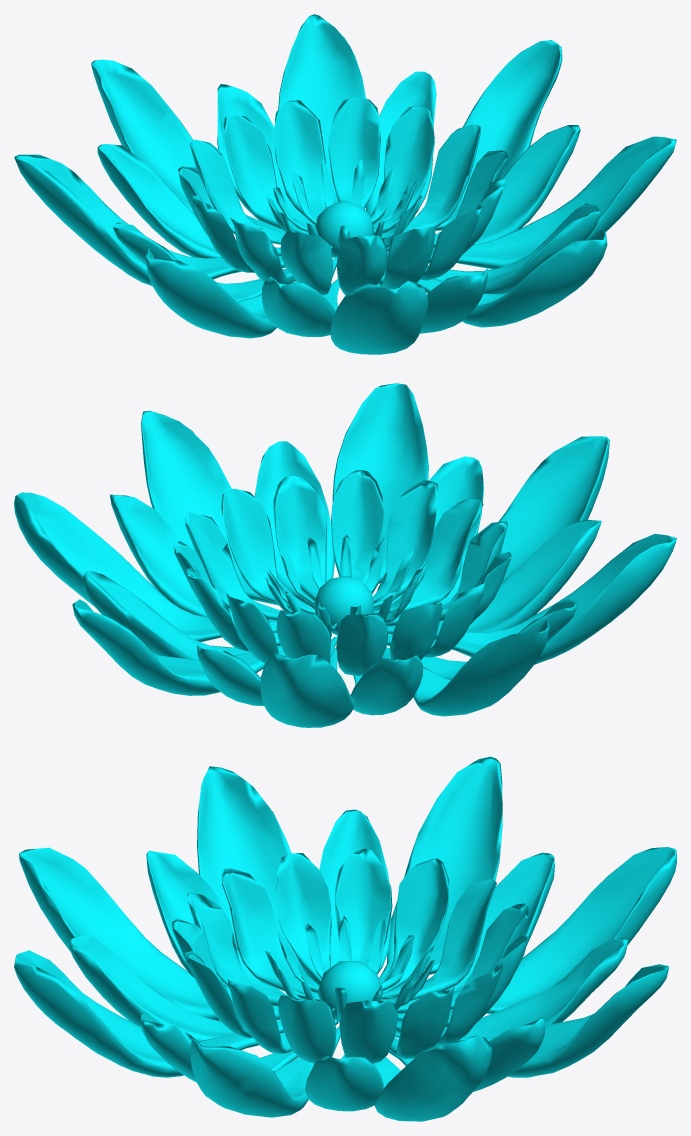
Rendered from emerald_10k.glb.
3 views of the same model, one above another, from view 1: azimuth 30°, elevation 25°; view 2: azimuth 150°, elevation 25°; view 3: azimuth 270°, elevation 25° (orthographic). The views are drawn at different scales.
Parts seen in each view (by area): view 1: PM3D_polySurface40; view 2: PM3D_polySurface40; view 3: PM3D_polySurface40.
Part boxes in pixels (x1,y1,x2,y2): PM3D_polySurface40: [14, 14, 676, 354]; PM3D_polySurface40: [14, 383, 676, 727]; PM3D_polySurface40: [14, 756, 676, 1121].
Size of the model in its own units: 11.55 by 2.84 by 11.54.
